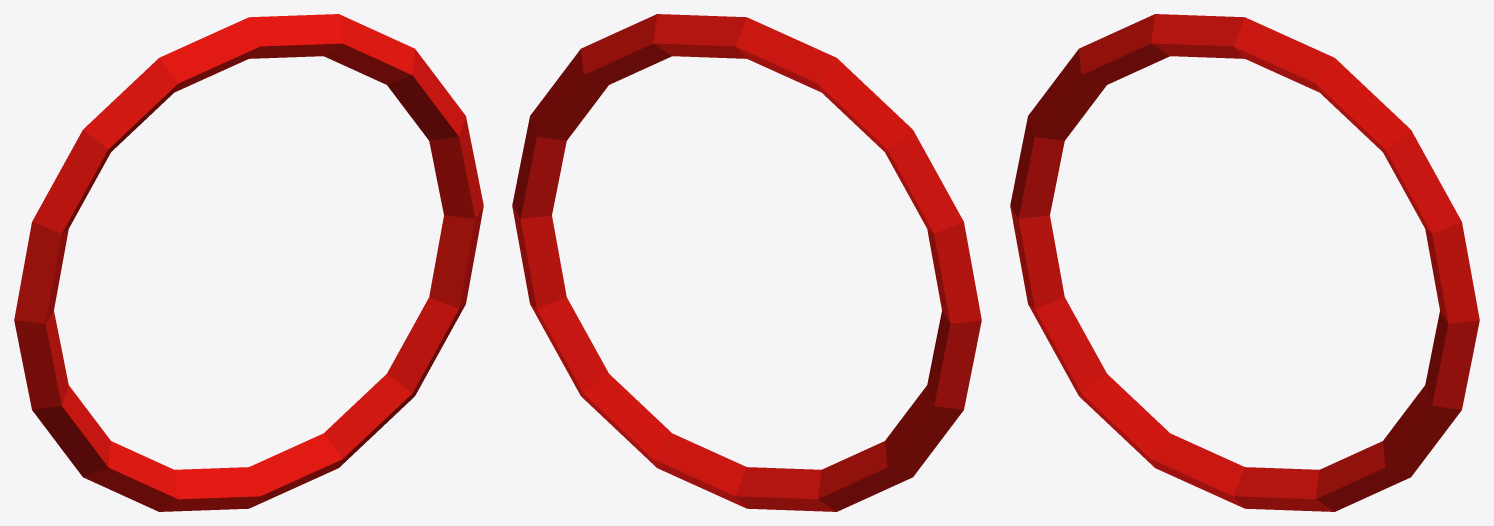
The model's file is target_cursor.obj.
3 views of the same model, side by side, from view 1: azimuth 30°, elevation 25°; view 2: azimuth 150°, elevation 25°; view 3: azimuth 330°, elevation 25° (orthographic).
Visible parts, largest first — view 1: Torus.002; view 2: Torus.002; view 3: Torus.002.
Boxes of the visible parts, x1,y1,x2,y2 form: Torus.002: [14, 14, 483, 511]; Torus.002: [512, 14, 981, 511]; Torus.002: [1010, 14, 1479, 511].
Size of the model in its own units: 0.59 by 0.59 by 0.05.
